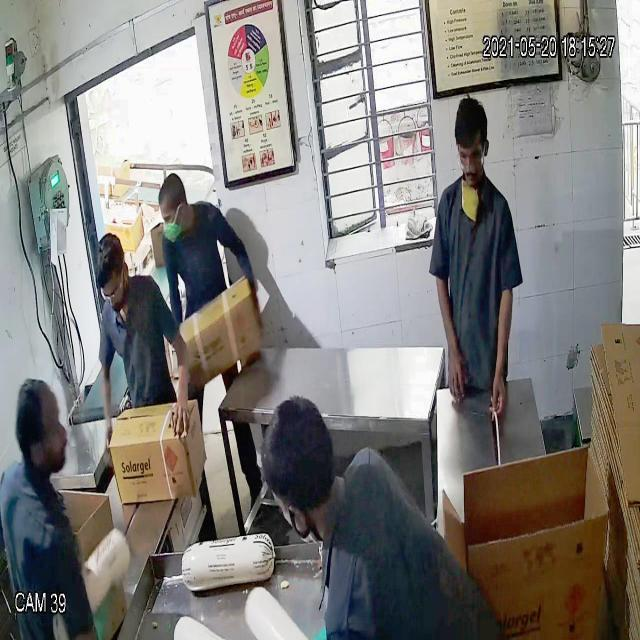glasses: (457, 140, 489, 174)
